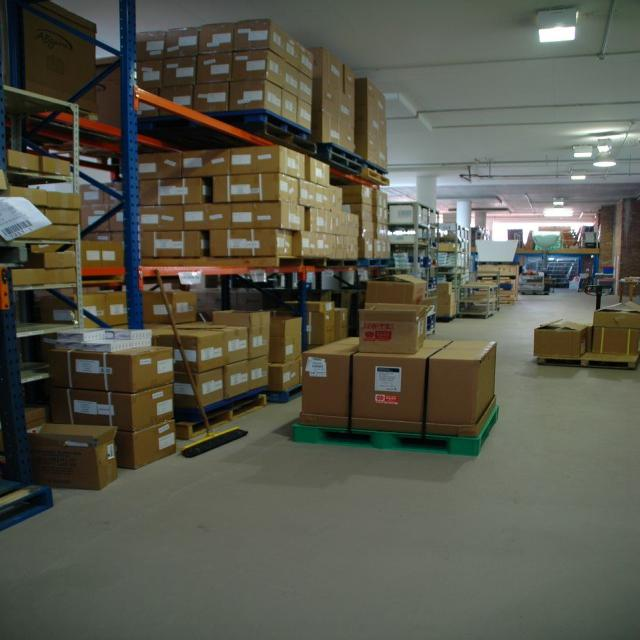box: (297, 343, 492, 432), (0, 6, 99, 114), (24, 429, 117, 496), (49, 343, 164, 396), (56, 394, 177, 427), (229, 86, 310, 130), (534, 317, 596, 362), (216, 170, 302, 202), (358, 86, 392, 156), (211, 232, 300, 254), (519, 270, 553, 294)
